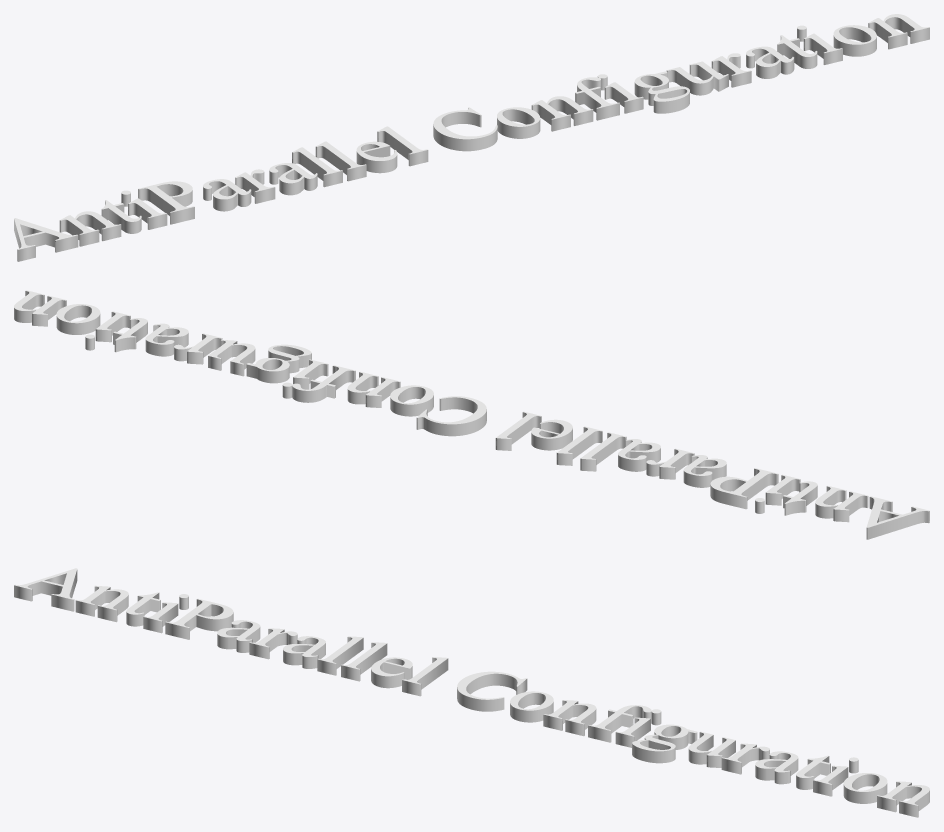
Rendered from AntiConfigtext.obj.
The picture shows the model from 3 angles, top to bottom: view 1: azimuth 30°, elevation 25°; view 2: azimuth 150°, elevation 25°; view 3: azimuth 330°, elevation 25°; orthographic projection.
Parts seen in each view (by area): view 1: Text; view 2: Text; view 3: Text.
Boxes of the visible parts, x1=… form: Text: x1=14, y1=14, x2=929, y2=261; Text: x1=14, y1=290, x2=929, y2=539; Text: x1=14, y1=568, x2=929, y2=817.
Bounding box in the file's own units: 7.93 × 0.1 × 0.6761.
Materials: 1 (1 with a texture image).
